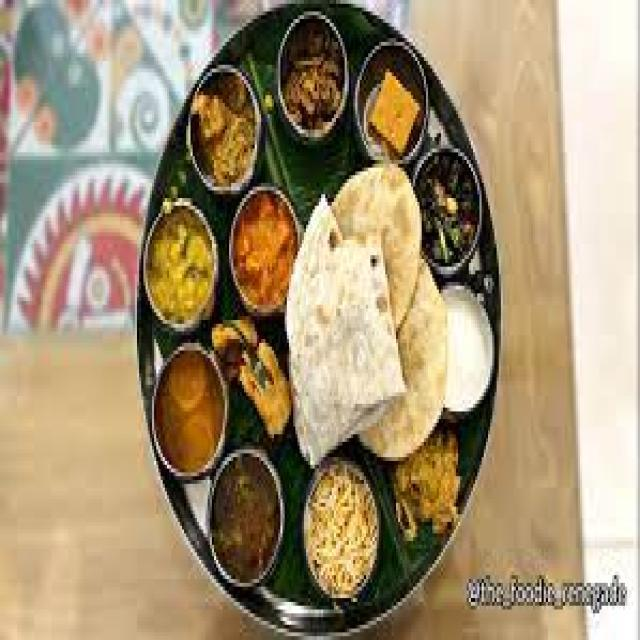dal: (147, 349, 235, 472)
papad: (287, 187, 405, 445)
raita: (439, 279, 502, 417)
sambar-rasam: (202, 449, 285, 587), (151, 347, 230, 476), (360, 47, 428, 158)
sweet: (358, 52, 430, 158)
veg: (274, 23, 352, 135)
veg-fry: (277, 22, 351, 131)
